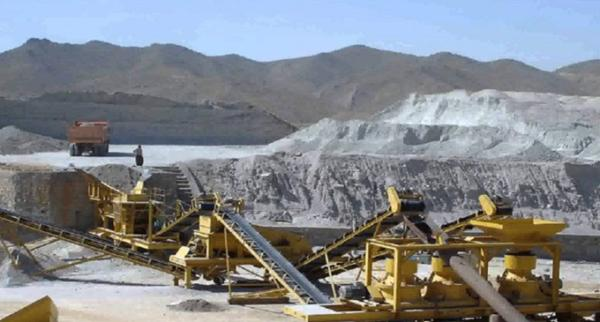ExcavationMachinery: (65, 118, 111, 159)
Person: (132, 144, 144, 166)
